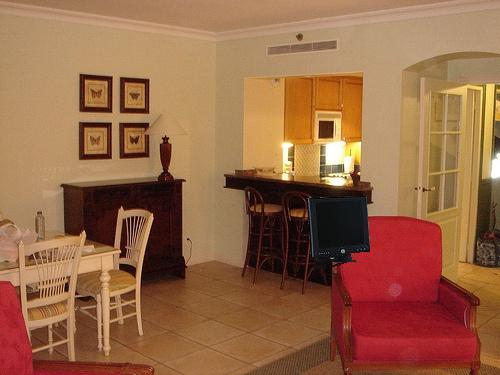tampered: (308, 197, 370, 271)
